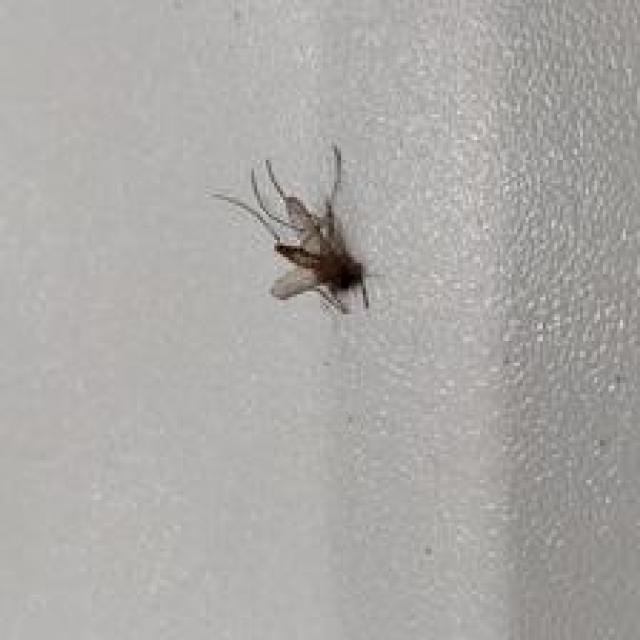Culex: (212, 143, 377, 317)
